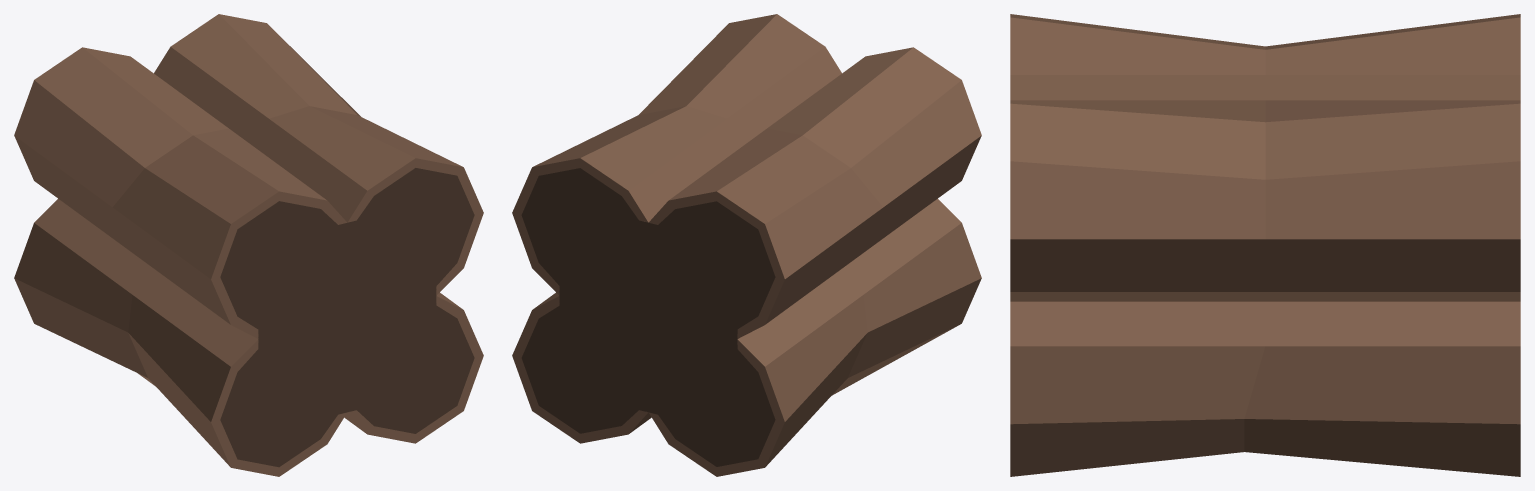
File: Log_6_Light_Brown.fbx
The picture shows the model from 3 angles, left to right: view 1: azimuth 30°, elevation 25°; view 2: azimuth 150°, elevation 25°; view 3: azimuth 270°, elevation 25°; orthographic projection. The views are drawn at different scales.
Visible parts, largest first — view 1: Log_6_Light_Brown; view 2: Log_6_Light_Brown; view 3: Log_6_Light_Brown.
Boxes of the visible parts, bbox=[...] form: Log_6_Light_Brown: bbox=[14, 14, 483, 476]; Log_6_Light_Brown: bbox=[512, 14, 981, 476]; Log_6_Light_Brown: bbox=[1010, 14, 1520, 476].
Bounding box in the file's own units: 160 × 160 × 200.
